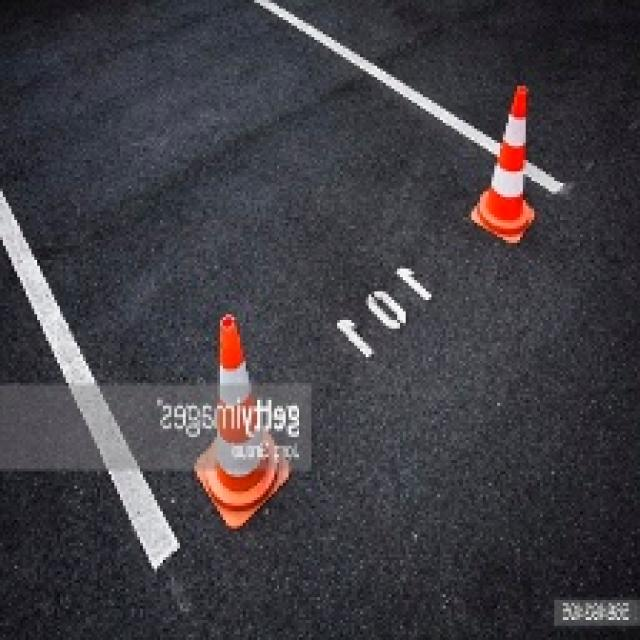cone: (194, 308, 294, 532), (472, 76, 547, 248)
